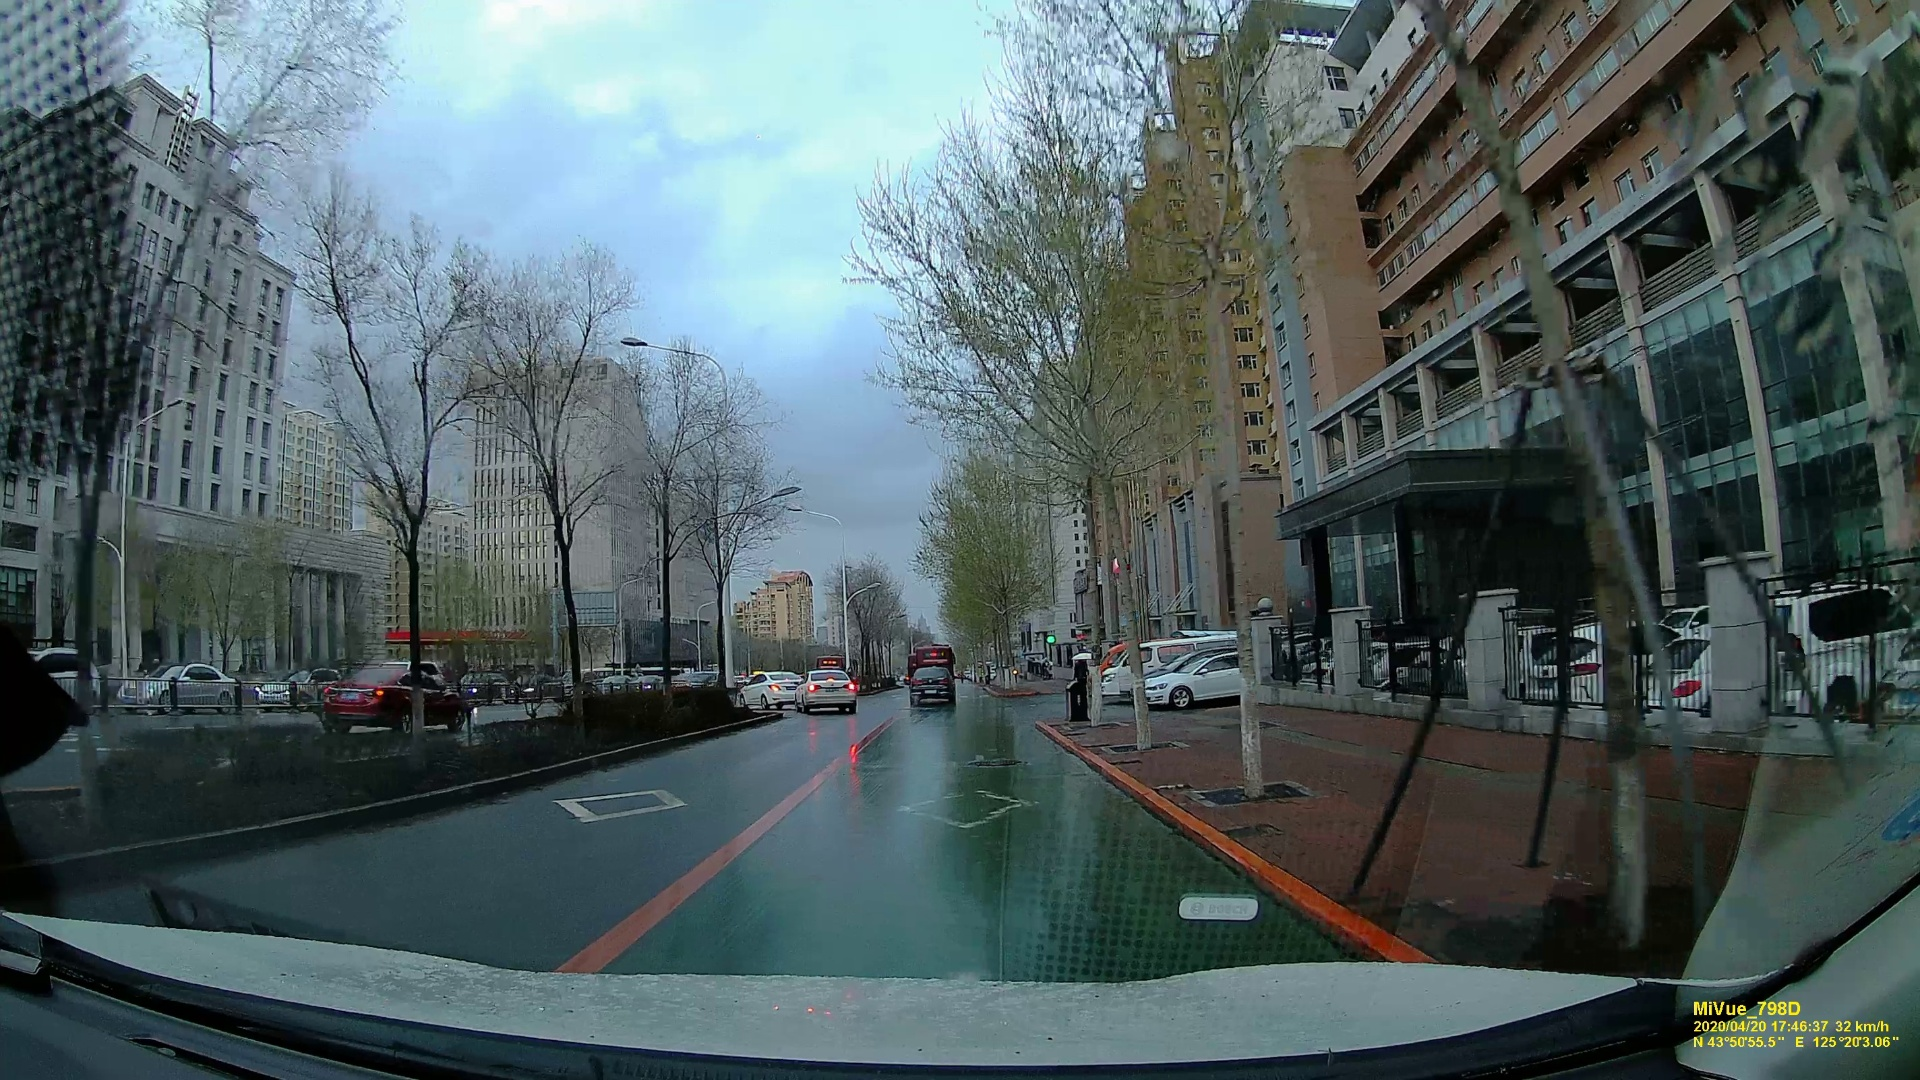vehicle: (311, 658, 465, 741), (1146, 654, 1247, 708), (794, 666, 856, 713), (740, 669, 796, 703), (905, 665, 953, 704)
